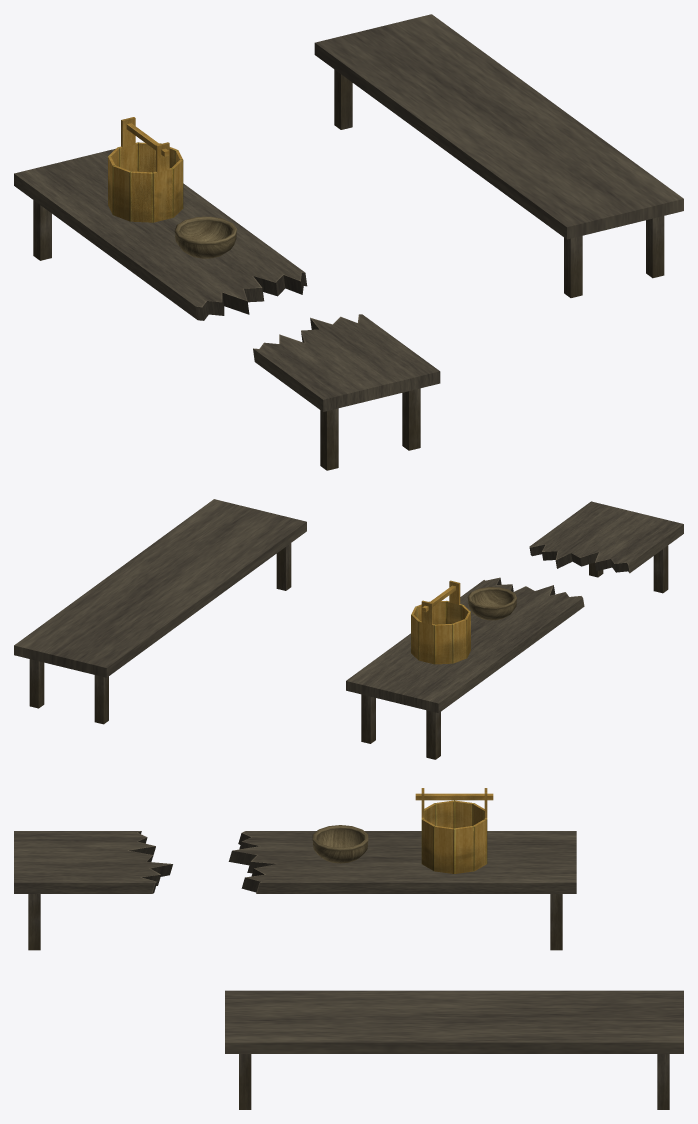
File: BgMD_Akimoto_Komono.fbx
The picture shows the model from 3 angles, top to bottom: view 1: azimuth 30°, elevation 25°; view 2: azimuth 150°, elevation 25°; view 3: azimuth 270°, elevation 25°; orthographic projection. The views are drawn at different scales.
Visible parts, largest first — view 1: BgMD_Akimoto_Table_1_01, BgMD_Akimoto_Table_3_01, BgMD_Akimoto_Table_2_01, BgMD_Akimoto_Taru_02, BgMD_Akimoto_Kago_01; view 2: BgMD_Akimoto_Table_1_01, BgMD_Akimoto_Table_3_01, BgMD_Akimoto_Table_2_01, BgMD_Akimoto_Taru_02, BgMD_Akimoto_Kago_01; view 3: BgMD_Akimoto_Table_1_01, BgMD_Akimoto_Table_3_01, BgMD_Akimoto_Table_2_01, BgMD_Akimoto_Taru_02, BgMD_Akimoto_Kago_01.
Part boxes in pixels (x1,y1,x2,y2): BgMD_Akimoto_Table_1_01: (314, 14, 683, 297); BgMD_Akimoto_Table_3_01: (14, 148, 307, 320); BgMD_Akimoto_Table_2_01: (253, 314, 440, 470); BgMD_Akimoto_Taru_02: (108, 117, 183, 222); BgMD_Akimoto_Kago_01: (174, 216, 237, 258); BgMD_Akimoto_Table_1_01: (14, 499, 306, 724); BgMD_Akimoto_Table_3_01: (346, 577, 584, 759); BgMD_Akimoto_Table_2_01: (529, 501, 683, 593); BgMD_Akimoto_Taru_02: (411, 580, 470, 664); BgMD_Akimoto_Kago_01: (467, 587, 516, 620); BgMD_Akimoto_Table_1_01: (225, 990, 683, 1109); BgMD_Akimoto_Table_3_01: (228, 831, 576, 950); BgMD_Akimoto_Table_2_01: (14, 831, 172, 950); BgMD_Akimoto_Taru_02: (415, 788, 493, 873); BgMD_Akimoto_Kago_01: (312, 825, 368, 863).
Size of the model in its own units: 204 by 63.31 by 272.
